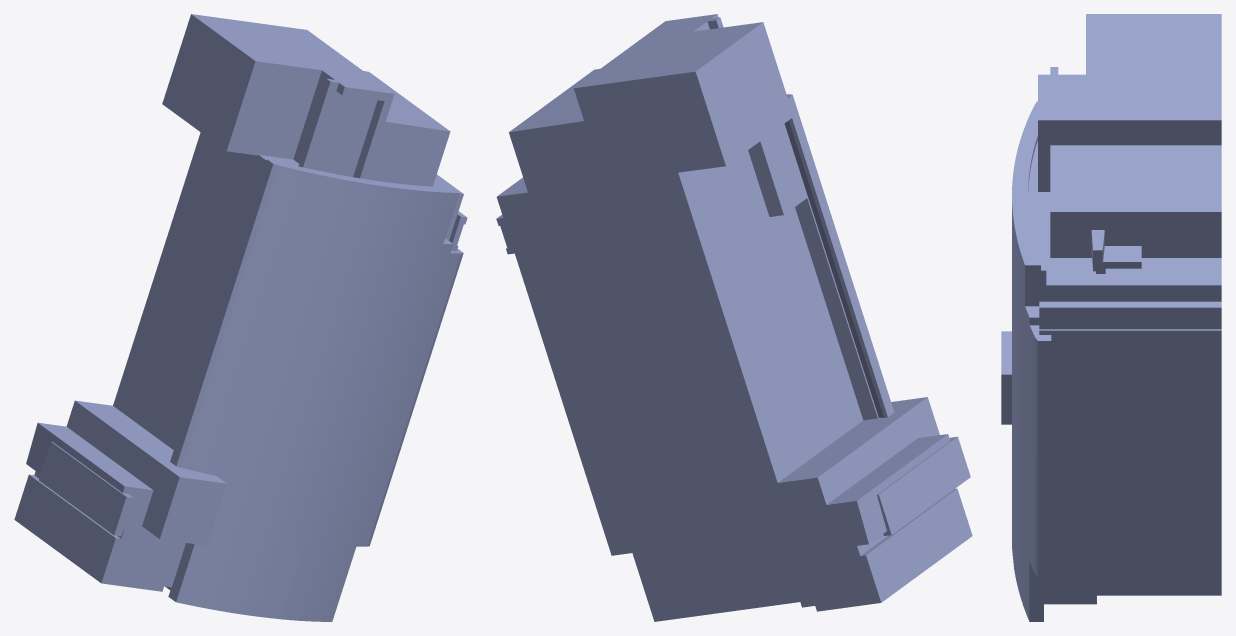
File: sde2.glb
3 renders of one model, left to right at view 1: azimuth 30°, elevation 25°; view 2: azimuth 150°, elevation 25°; view 3: azimuth 270°, elevation 25°, orthographic. The views are drawn at different scales.
Parts seen in each view (by area): view 1: CELC; view 2: CELC; view 3: CELC.
Part boxes in pixels (bbox=[...]): CELC: bbox=[14, 14, 467, 621]; CELC: bbox=[496, 14, 972, 621]; CELC: bbox=[1001, 14, 1221, 621].
Bounding box in the file's own units: 47.37 × 67.69 × 23.24.
